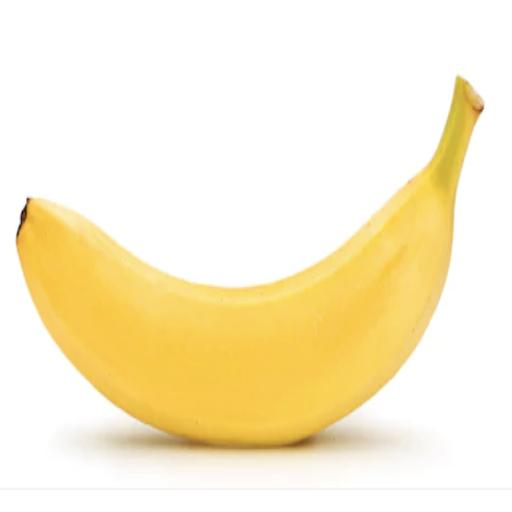banana: (17, 77, 483, 445)
